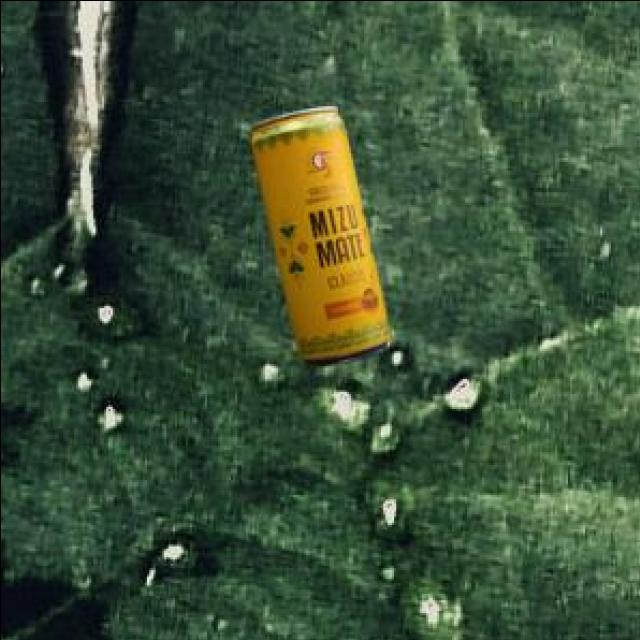logam: (248, 102, 388, 362)
